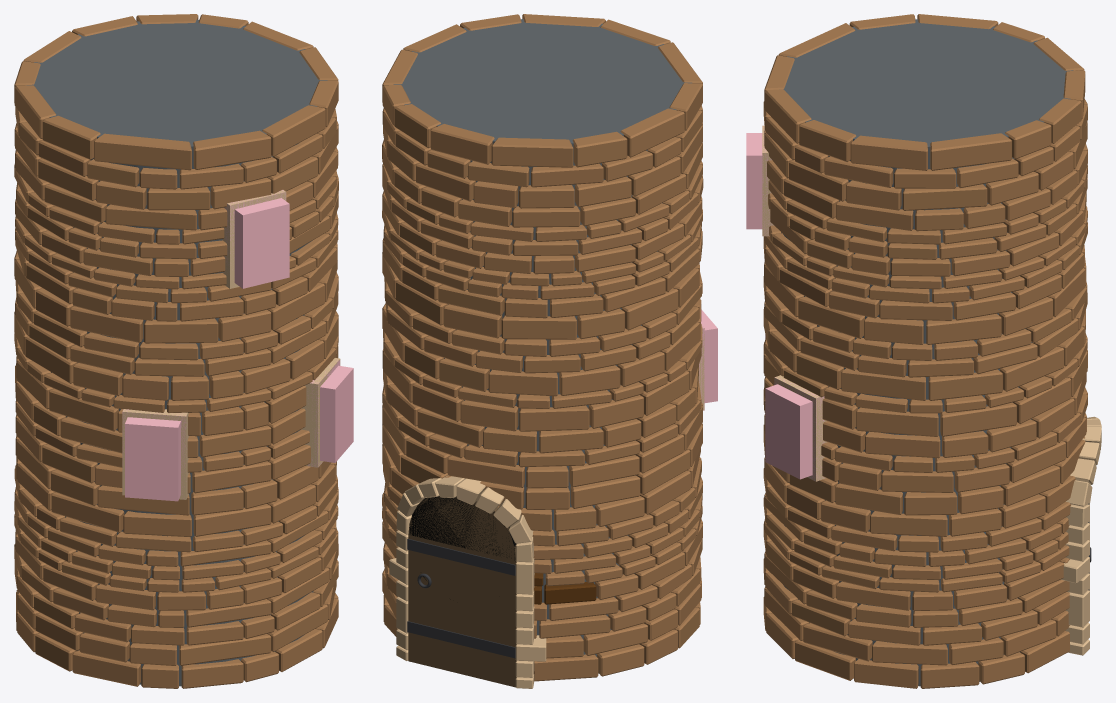
3 renders of one model, left to right at view 1: azimuth 30°, elevation 25°; view 2: azimuth 150°, elevation 25°; view 3: azimuth 270°, elevation 25°, orthographic.
Visible parts, largest first — view 1: Wall.002, grout, left-slit-cutter-inner, upper-slit-cutter-inner, right-slit-cutter-inner, left-slit-frame, right-slit-frame, upper-slit-frame; view 2: Wall.002, grout, door-lower, doorframe-structure, door-upper, wooden-door-banded, iron-band-1, iron-band-2, left-slit-cutter-inner; view 3: Wall.002, grout, doorframe-structure, right-slit-cutter-inner, upper-slit-cutter-inner, right-slit-frame, right-slit-cutter-outer, upper-slit-frame.
Part boxes in pixels (<box>): Wall.002: <box>14,14,338,688</box>; grout: <box>26,19,327,686</box>; left-slit-cutter-inner: <box>125,417,180,501</box>; upper-slit-cutter-inner: <box>234,198,289,288</box>; right-slit-cutter-inner: <box>320,365,353,462</box>; left-slit-frame: <box>122,409,188,499</box>; right-slit-frame: <box>301,358,340,467</box>; upper-slit-frame: <box>222,190,286,288</box>; Wall.002: <box>382,14,703,681</box>; grout: <box>393,19,691,673</box>; door-lower: <box>408,535,516,687</box>; doorframe-structure: <box>389,475,546,688</box>; door-upper: <box>408,496,515,600</box>; wooden-door-banded: <box>409,496,515,599</box>; iron-band-1: <box>407,538,515,575</box>; iron-band-2: <box>407,621,515,658</box>; left-slit-cutter-inner: <box>701,309,717,402</box>; Wall.002: <box>763,14,1087,688</box>; grout: <box>781,19,1073,686</box>; doorframe-structure: <box>1061,416,1101,655</box>; right-slit-cutter-inner: <box>765,384,812,479</box>; upper-slit-cutter-inner: <box>746,133,762,229</box>; right-slit-frame: <box>774,375,827,481</box>; right-slit-cutter-outer: <box>774,377,824,480</box>; upper-slit-frame: <box>762,125,773,236</box>.
Bounding box in the file's own units: 3 × 5.51 × 3.29.
